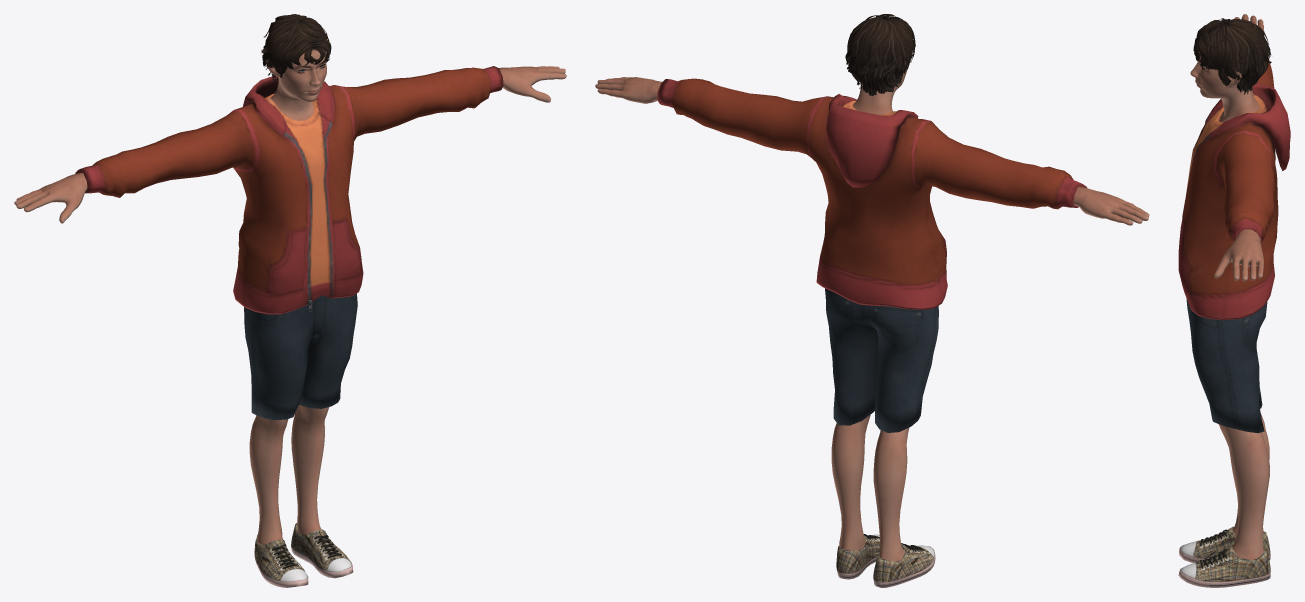
File: pazan1.obj
3 views of the same model, side by side, from view 1: azimuth 30°, elevation 25°; view 2: azimuth 150°, elevation 25°; view 3: azimuth 270°, elevation 25° (orthographic).
Visible parts, largest first — view 1: Tops, Body, Bottoms, Shoes, Hair; view 2: Tops, Bottoms, Body, Hair, Shoes; view 3: Tops, Body, Bottoms, Hair, Shoes.
Part boxes in pixels (x1,y1,x2,y2): Tops: (75, 66, 503, 314); Body: (14, 43, 566, 544); Bottoms: (244, 293, 357, 419); Shoes: (254, 523, 353, 587); Hair: (261, 14, 331, 81); Tops: (657, 78, 1086, 309); Bottoms: (825, 288, 938, 432); Body: (595, 61, 1149, 561); Hair: (845, 14, 915, 95); Shoes: (836, 534, 935, 587); Tops: (1178, 58, 1290, 320); Body: (1190, 14, 1269, 559); Bottoms: (1186, 298, 1267, 433); Hair: (1193, 18, 1271, 94); Shoes: (1178, 526, 1270, 587).
Size of the model in its own units: 195 by 186 by 34.54.
1 material, 1 textured.
